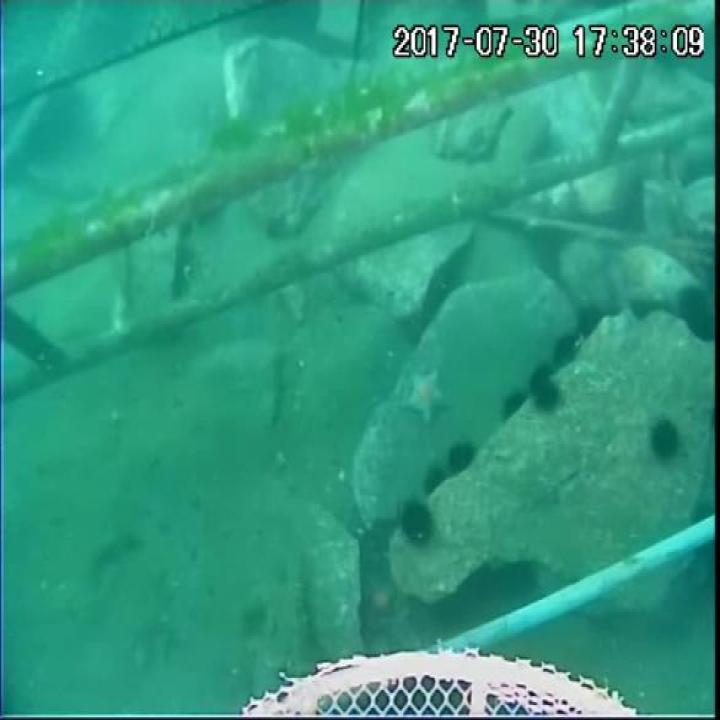echinus: (397, 500, 437, 552), (681, 282, 715, 339), (499, 558, 539, 604), (649, 413, 683, 465), (466, 566, 501, 610), (445, 438, 479, 474), (496, 390, 531, 422), (550, 334, 580, 370), (527, 363, 554, 399), (577, 304, 606, 336), (423, 463, 452, 495), (535, 377, 562, 411)
starfish: (400, 368, 454, 430), (360, 570, 401, 627)
